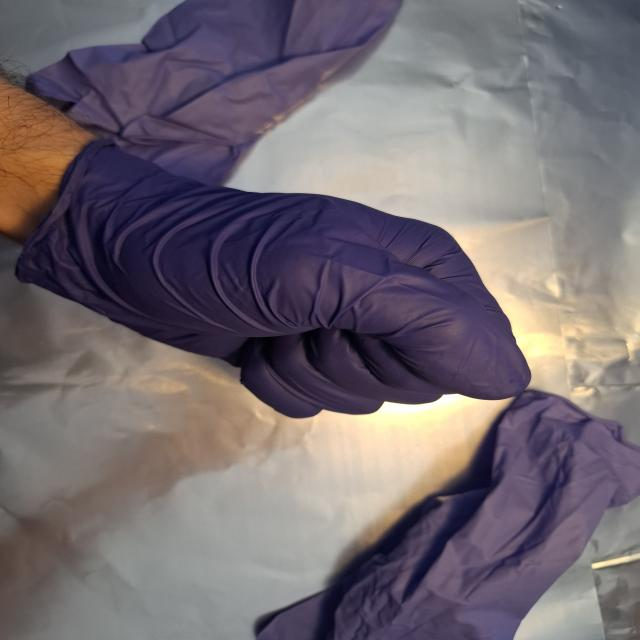glove_on: (16, 136, 540, 423)
